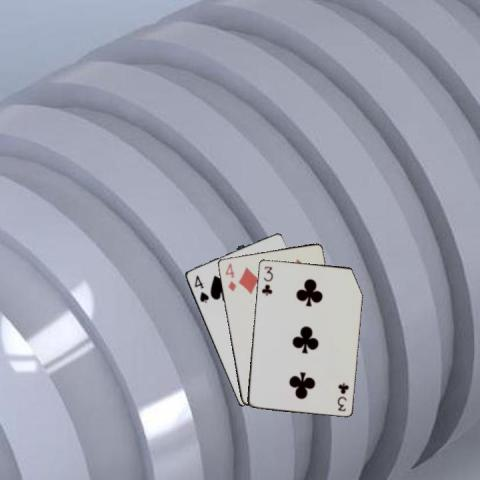3c: (259, 263, 274, 297), (335, 379, 350, 412)
4d: (222, 260, 237, 293)
4s: (191, 272, 210, 303)
